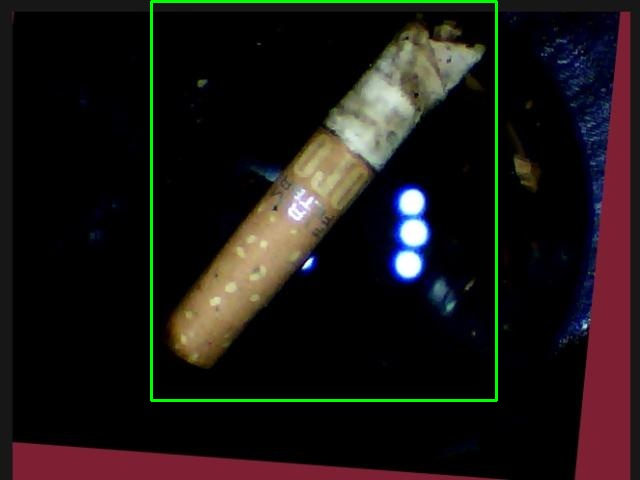megot: (151, 1, 496, 400)
